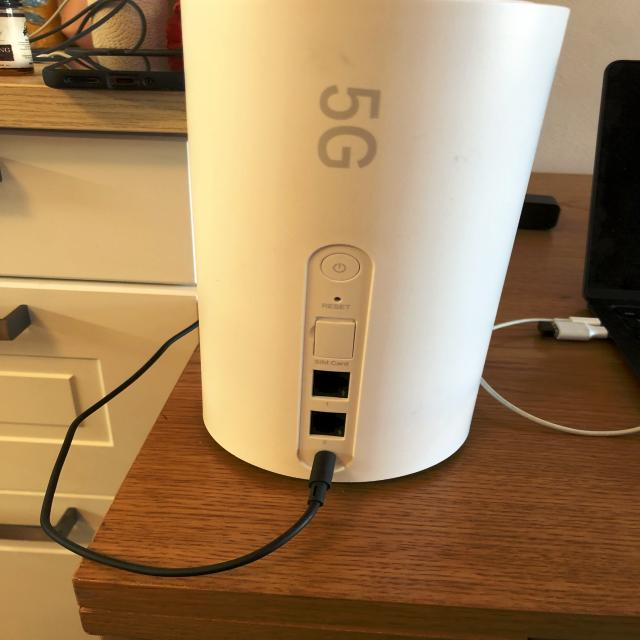lan: (310, 368, 352, 402), (306, 408, 348, 441)
modem: (182, 0, 569, 486)
onbutton: (321, 254, 360, 282)
powcab: (70, 446, 344, 580)
sim: (311, 314, 360, 364)
